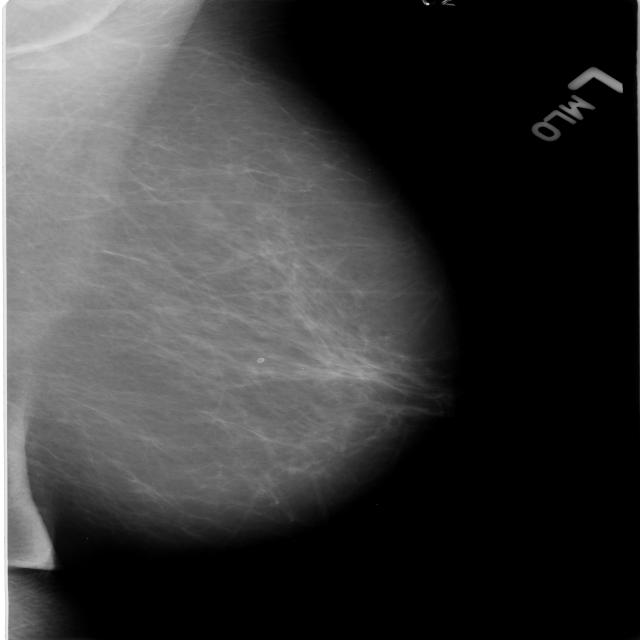normal: (0, 0, 454, 577)
